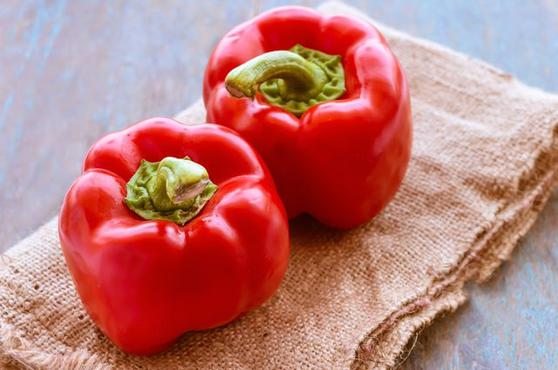pepper: (63, 123, 292, 350), (203, 3, 414, 242)
